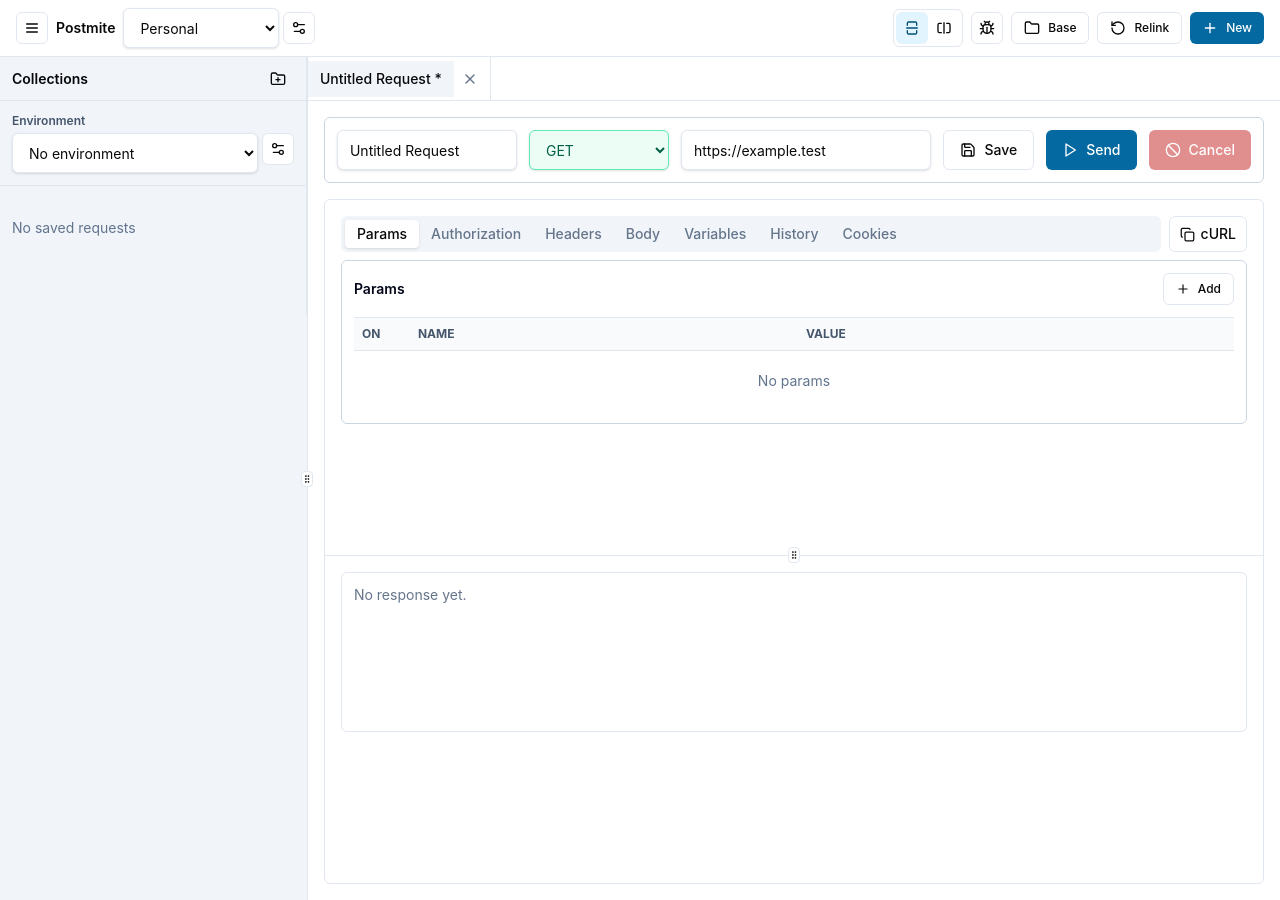
App request editor › rejects generated output when the Draft changes during generation
Click the button with aria-label "Copy cURL". click: coordinates (1208, 234)
box: left=1169, top=216, right=1247, bottom=252
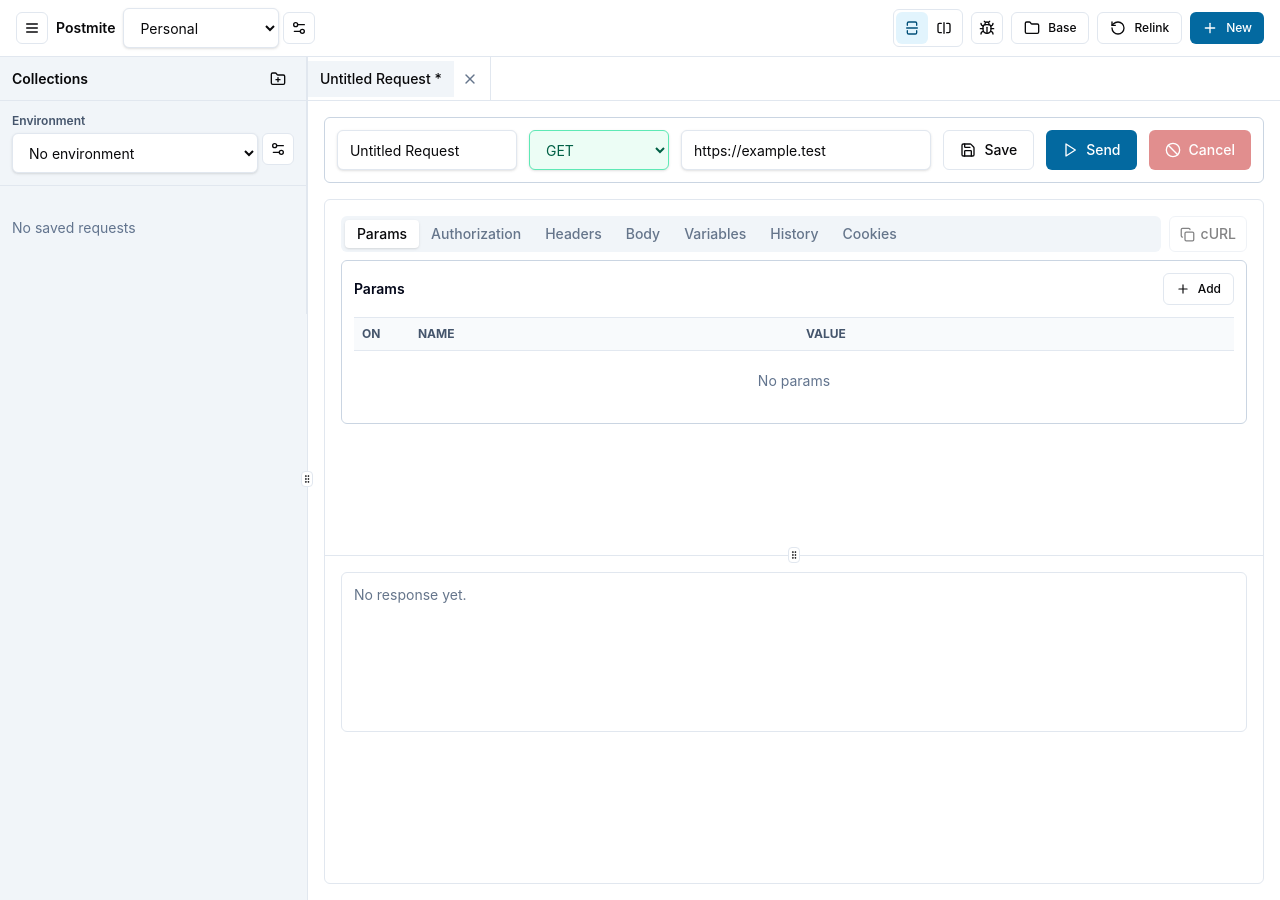
Replace the text in the 2nd field named "URL" with "https://changed.example.test". click: coordinates (806, 150)
box: left=681, top=130, right=931, bottom=170
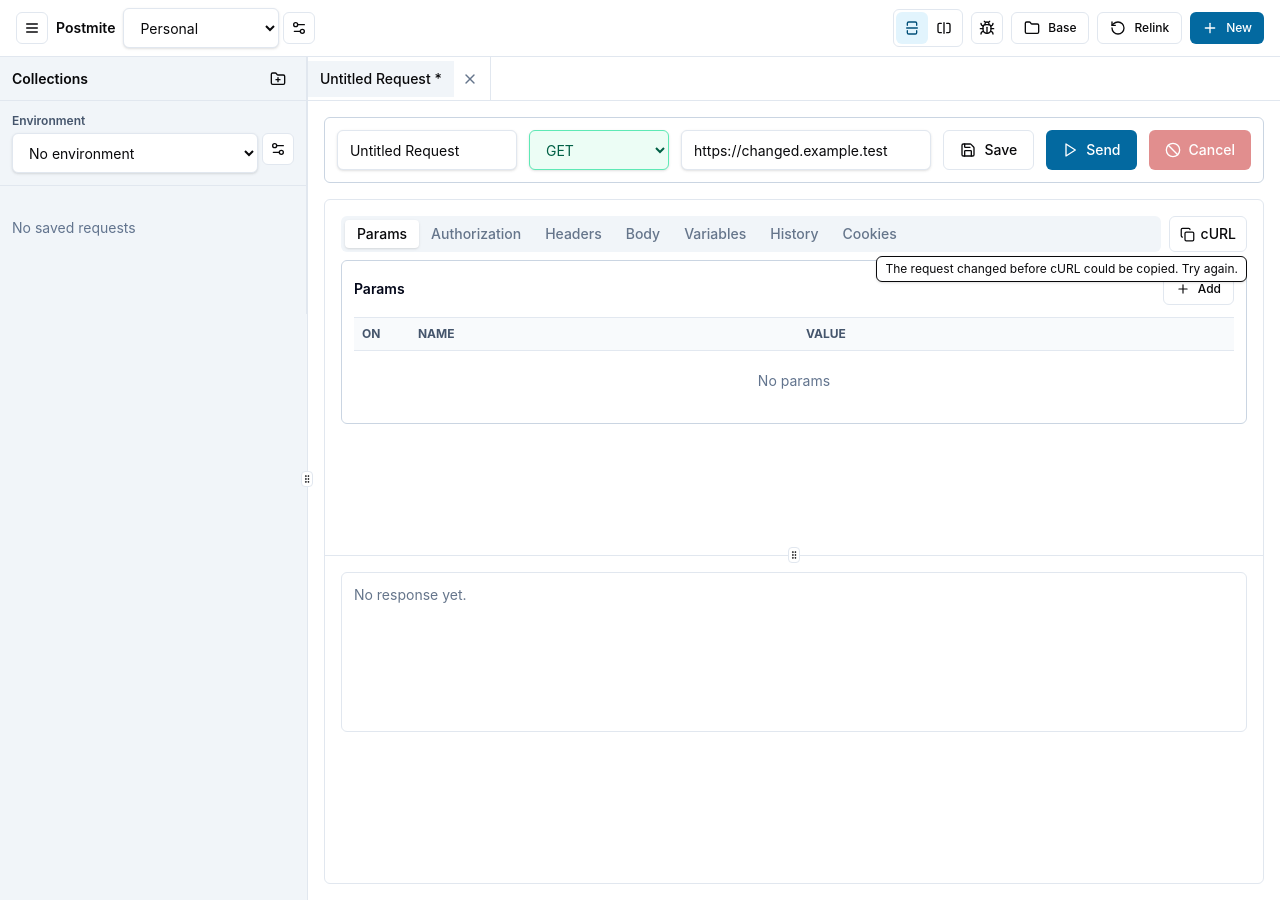
Now the text "The request changed before cURL could be copied. Try again." is shown, box left=876, top=256, right=1247, bottom=282
